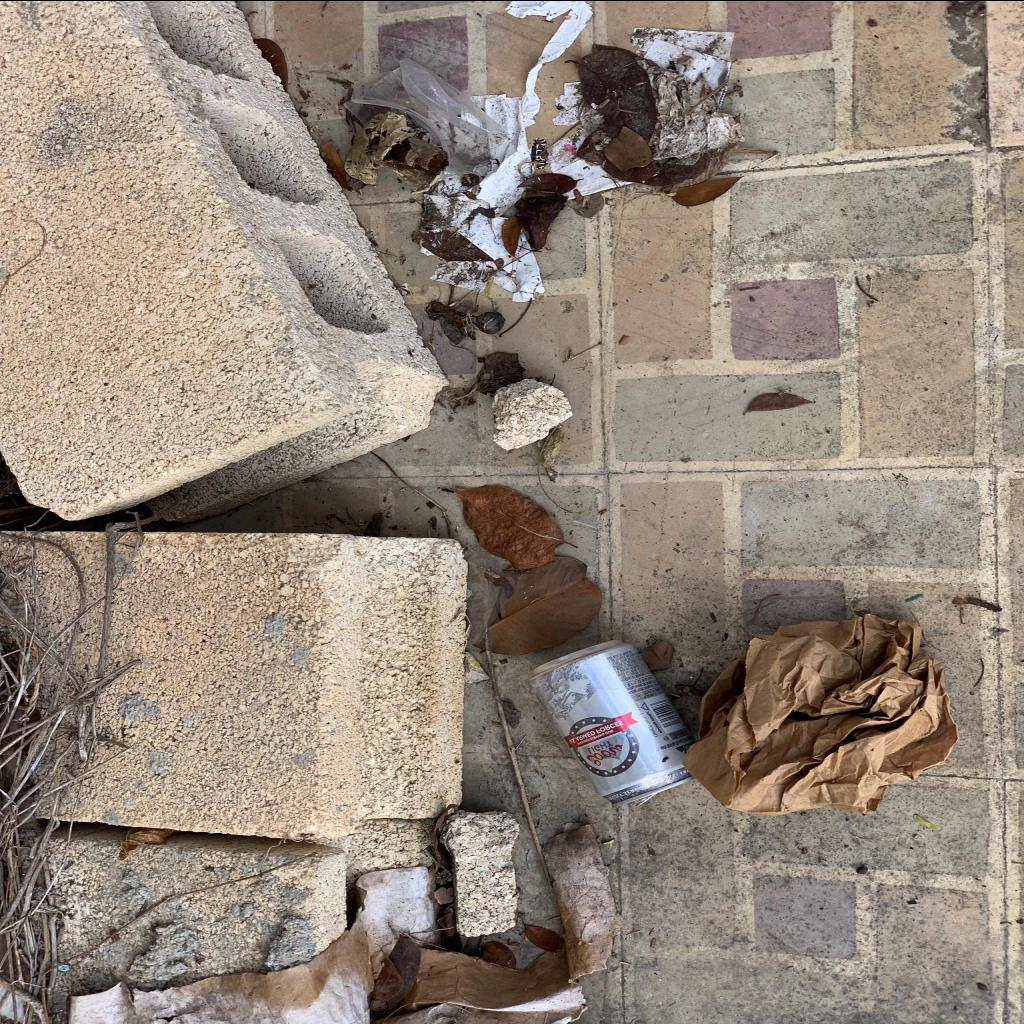Disposable plastic cup: (350, 58, 514, 180)
Drink can: (528, 637, 694, 804)
Normal paper: (420, 0, 594, 302), (550, 27, 744, 199)
Pop tab: (634, 789, 662, 805)
